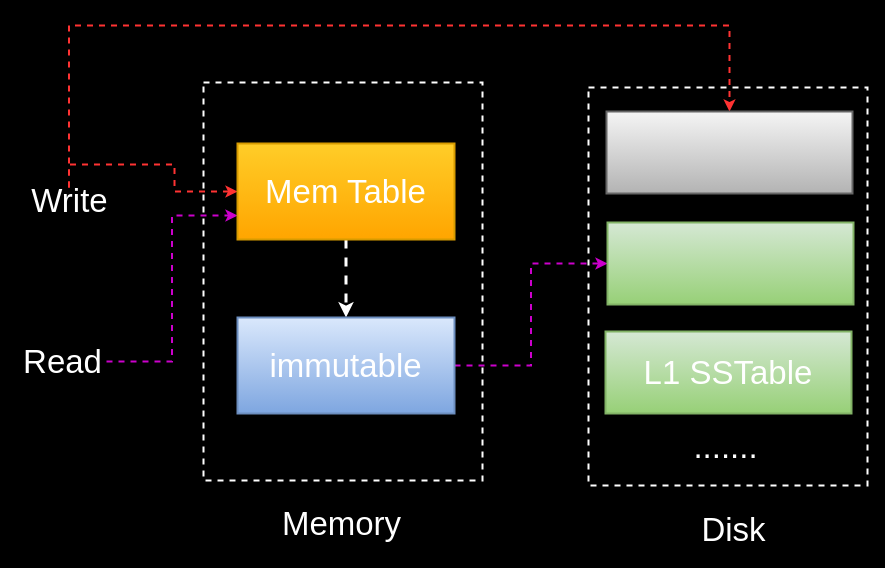
Image size: 885x568. Some labels were removed from this diagram. The centre of each missing label's shape, as x and y in pixels:
"L0 SSTable" belongs at pixel 730 263.
"WAL" belongs at pixel 729 152.
